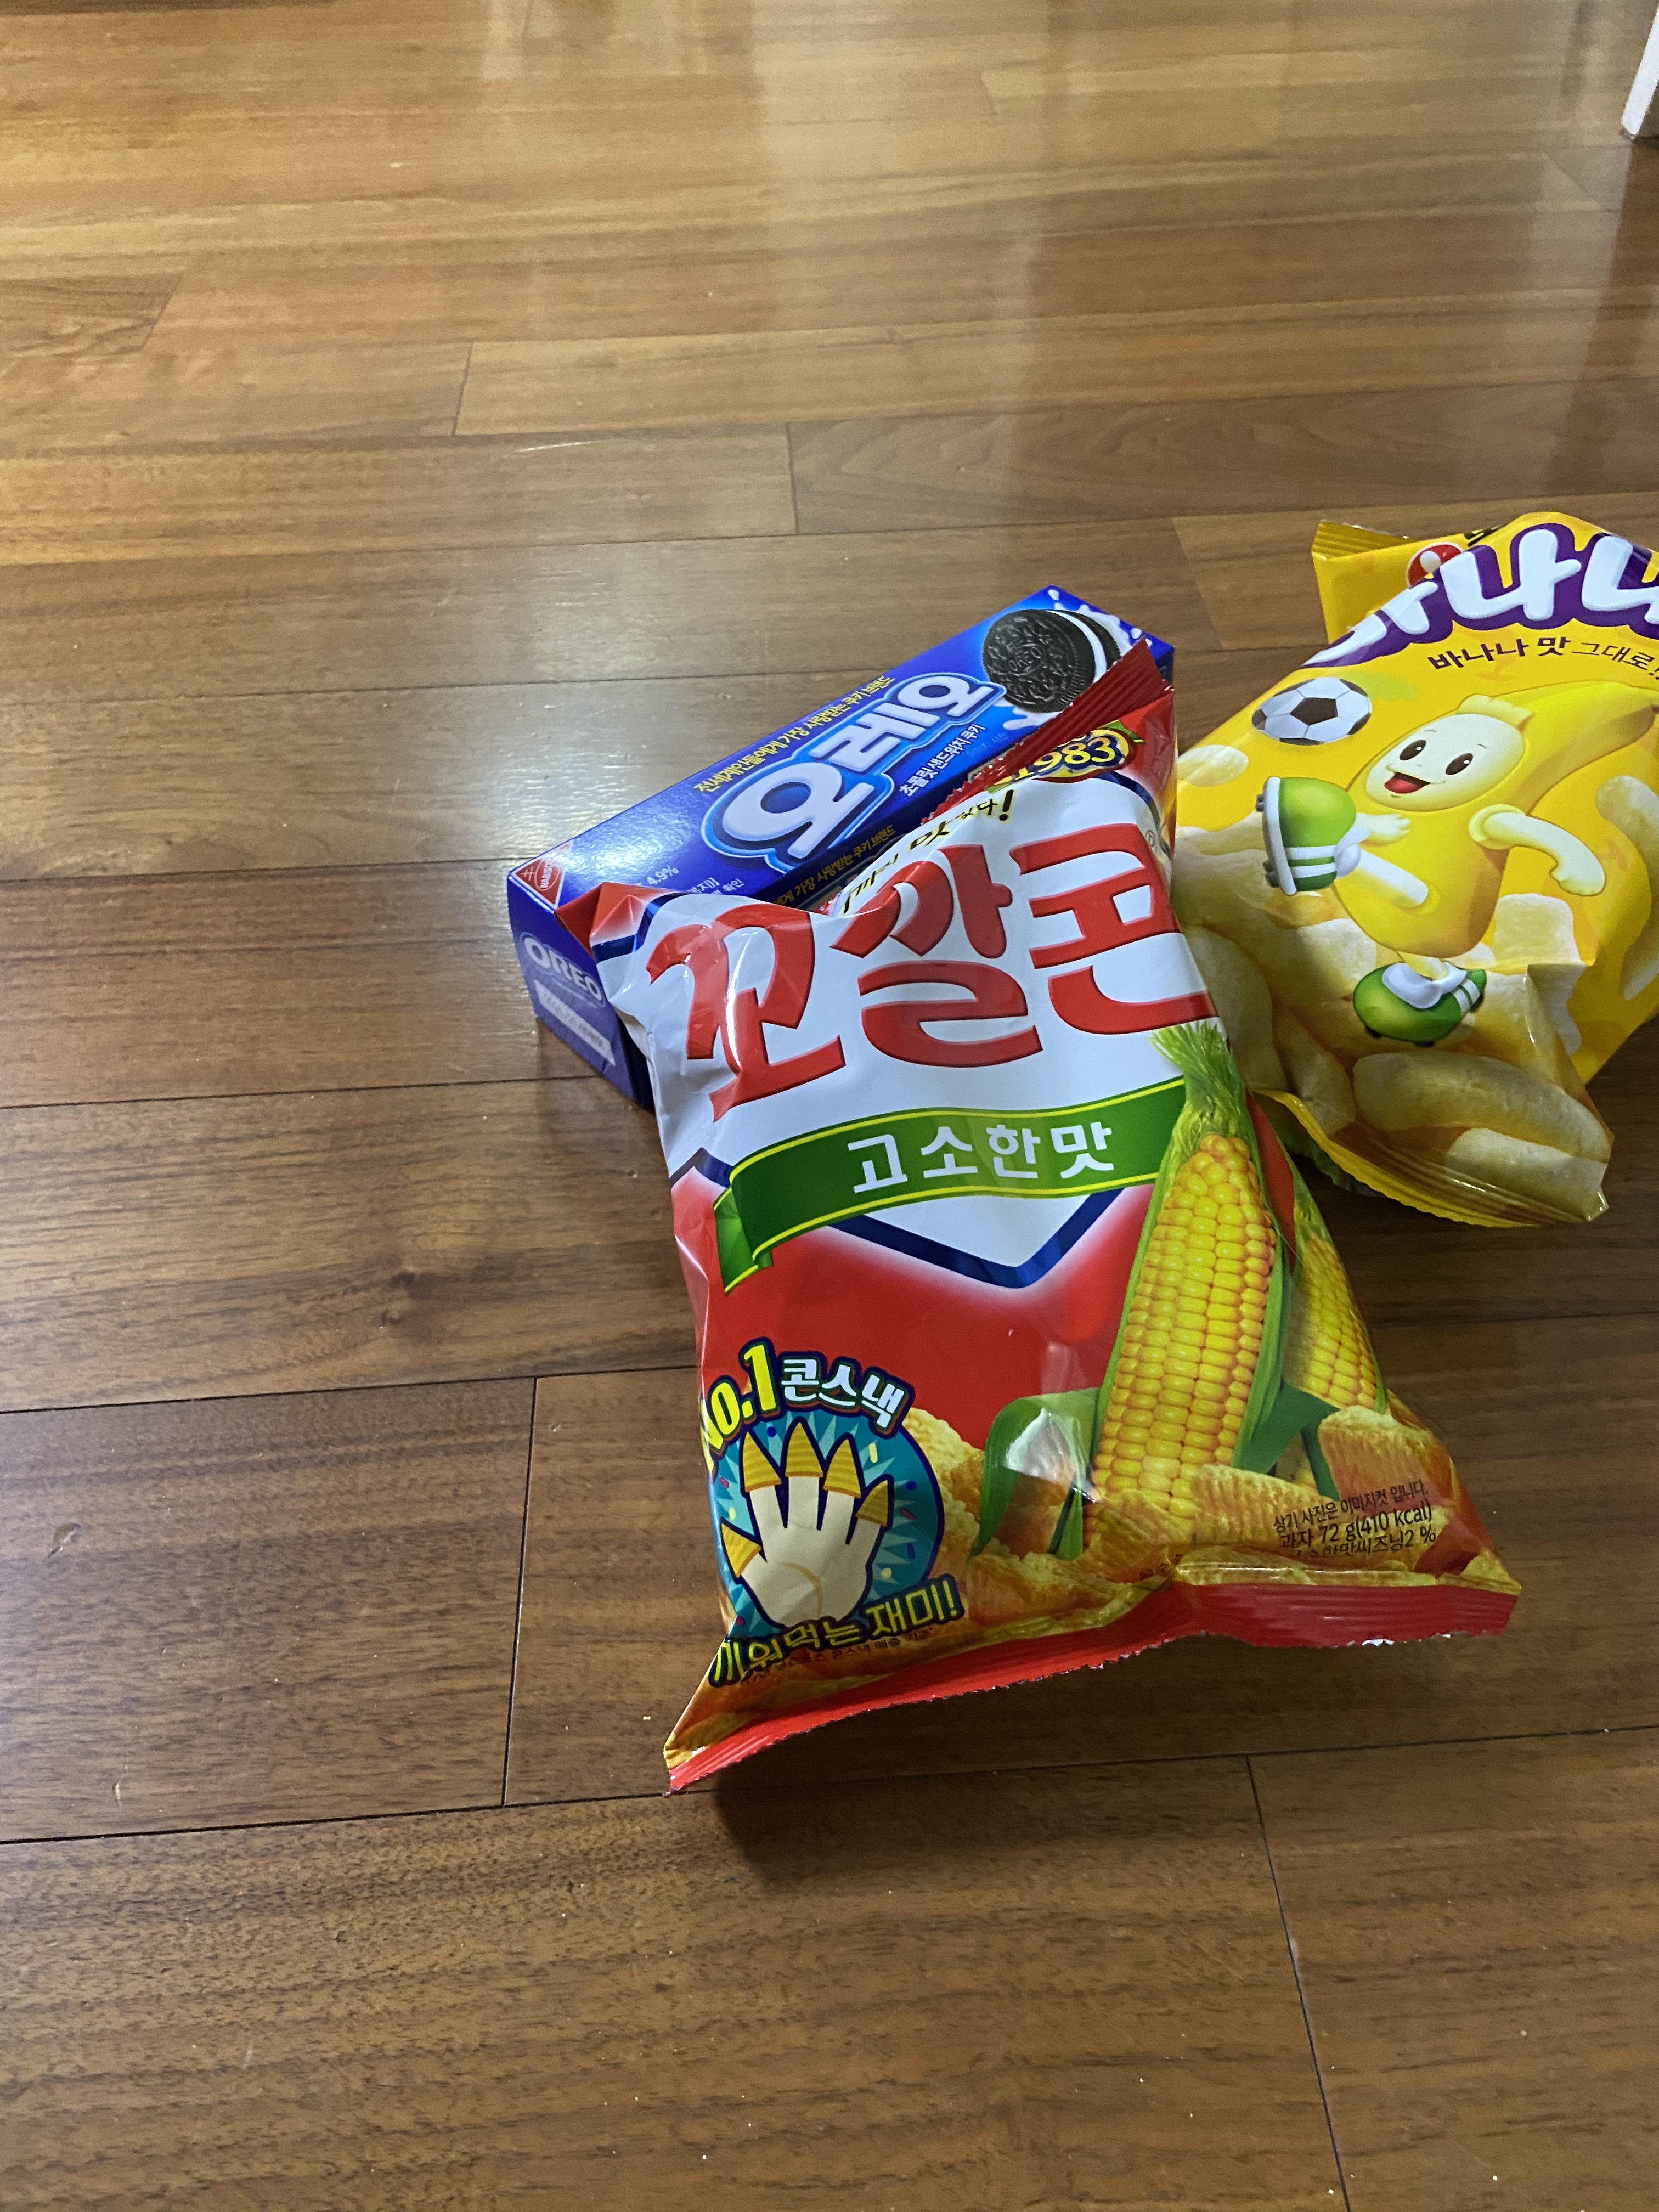banana: (1070, 496, 1659, 1245)
ggoggalcon: (549, 632, 1534, 1813)
oreo: (502, 571, 1195, 1115)
